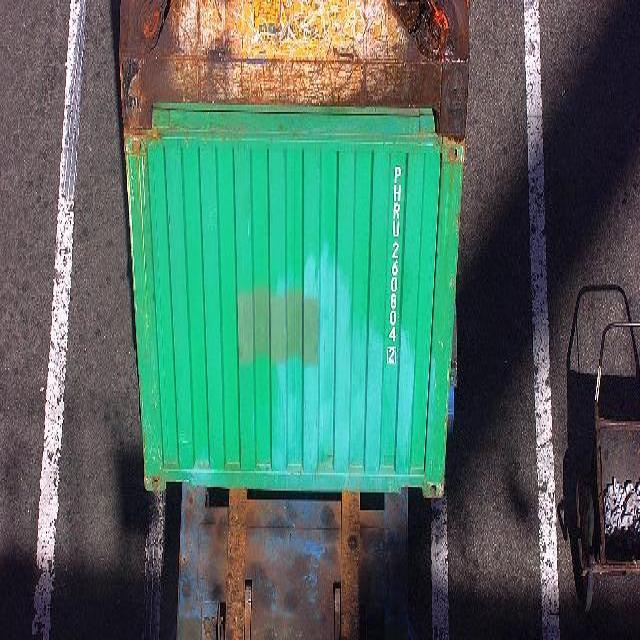container_number: (387, 154, 402, 368)
